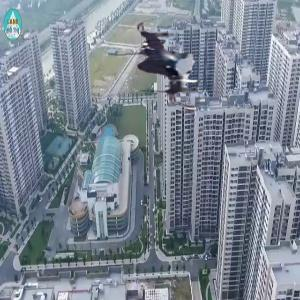drone: (105, 15, 205, 115)
